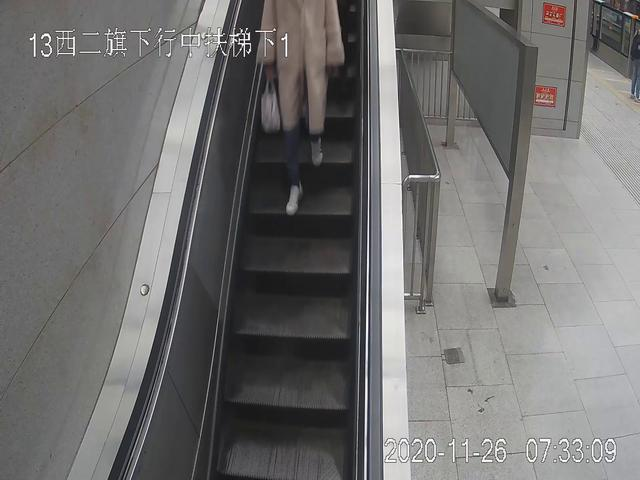person: (254, 1, 344, 215)
